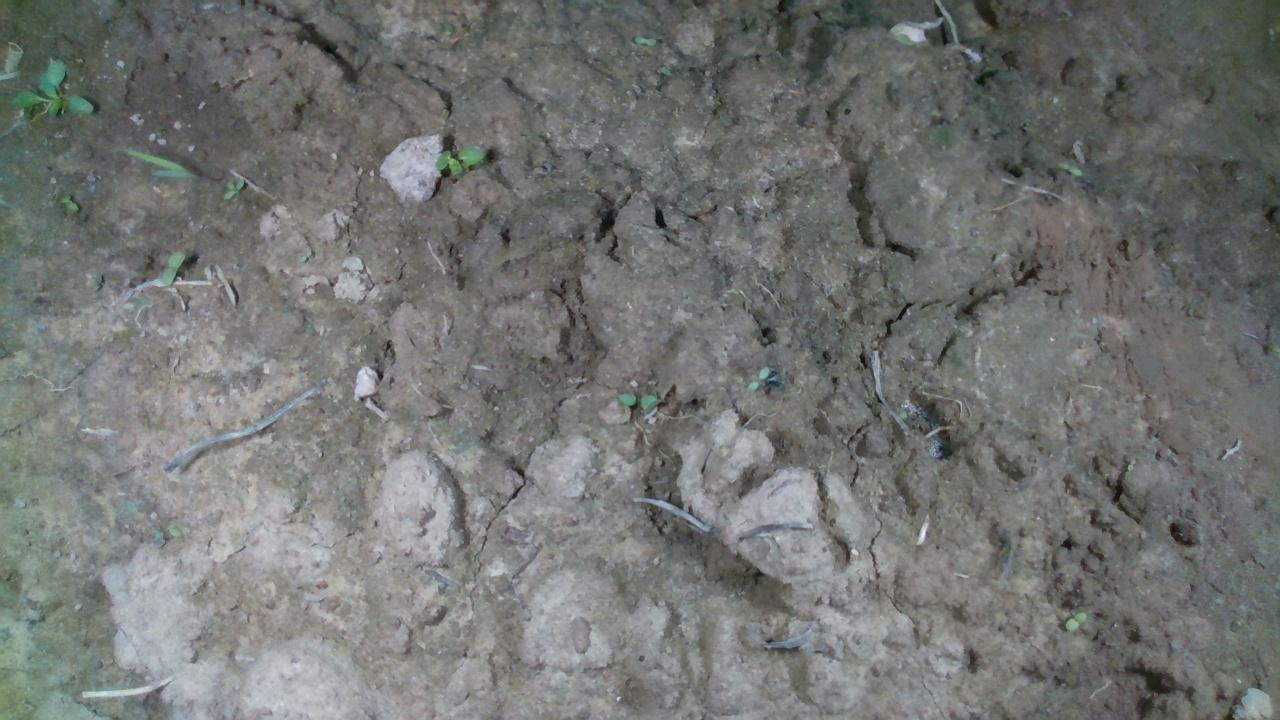weed: (160, 249, 183, 286), (745, 363, 768, 393), (1061, 610, 1086, 631), (222, 176, 244, 198)
